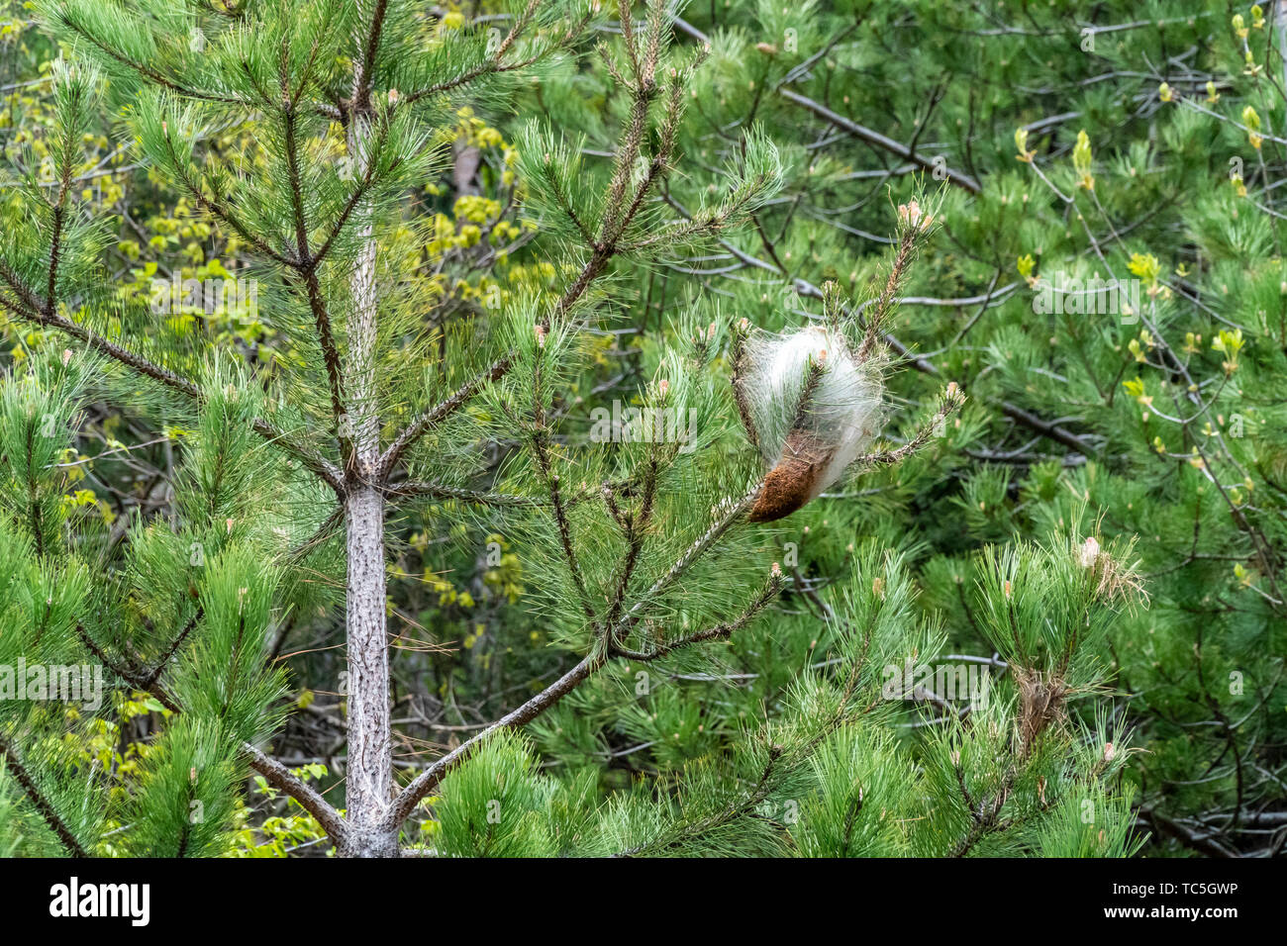thaumatopoea pityocampa jajno gnijezdo: (728, 317, 890, 534)
